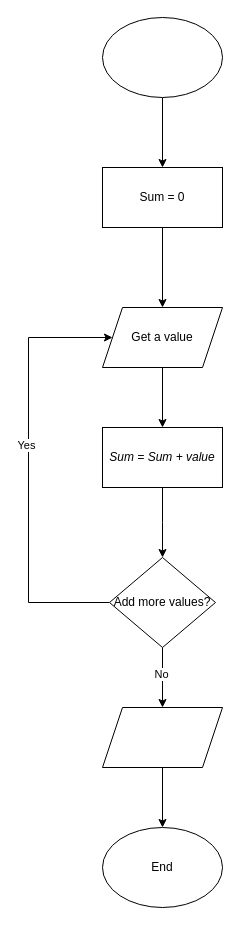
The diagram is 240 pixels wide and 925 high, and some of its shapes have lost their labels. The centre of each missing label's shape, as x and y in pixels:
Output sum: (x=162, y=737)
Start: (x=162, y=57)
